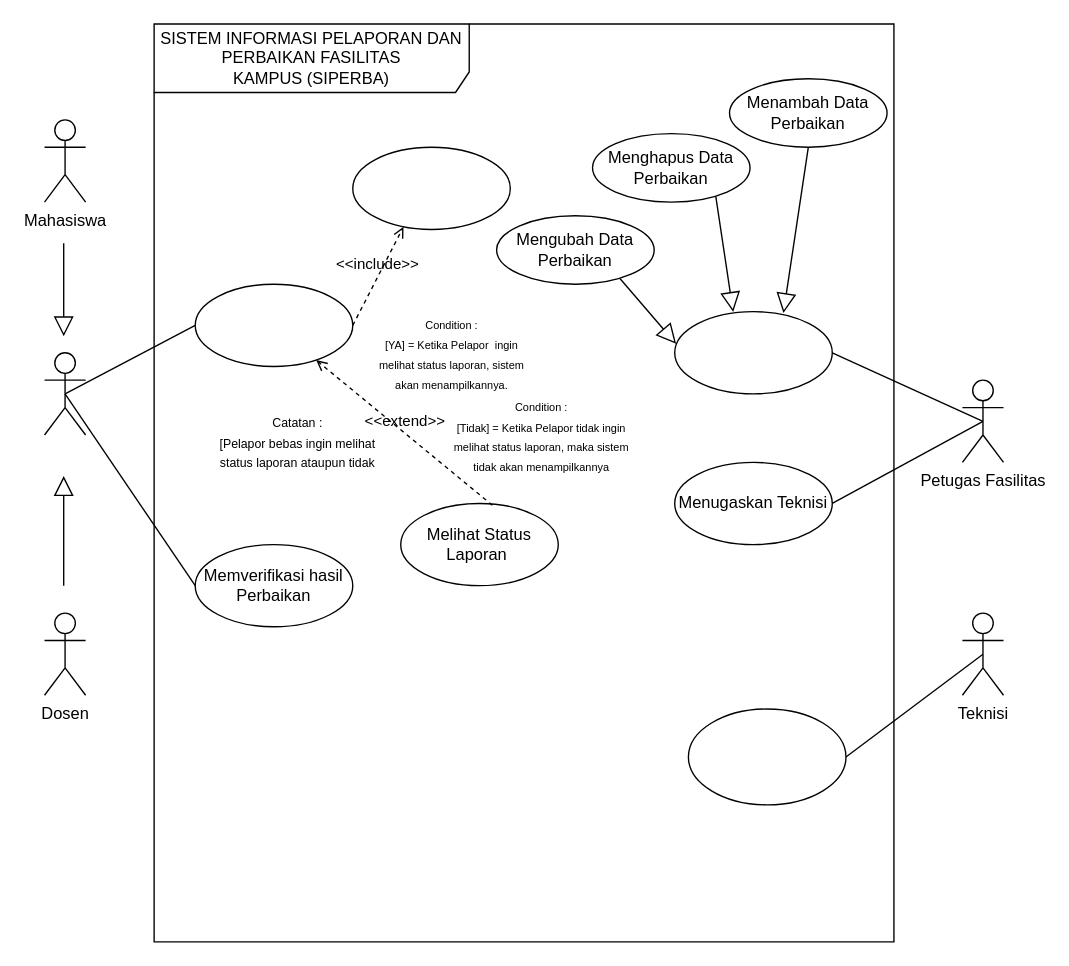
Image size: 1069x966. Some labels were removed from this diagram. Each missing label, with the box of its shape:
Membuat Laporan Kerusakan: (194, 283, 353, 366)
Memeriksa Kelengkapan Laporan: (351, 146, 510, 229)
mencatat perbaikan: (687, 708, 846, 805)
Mengelola Data Perbaikan: (673, 310, 832, 394)
Pelapor: (43, 351, 86, 435)
